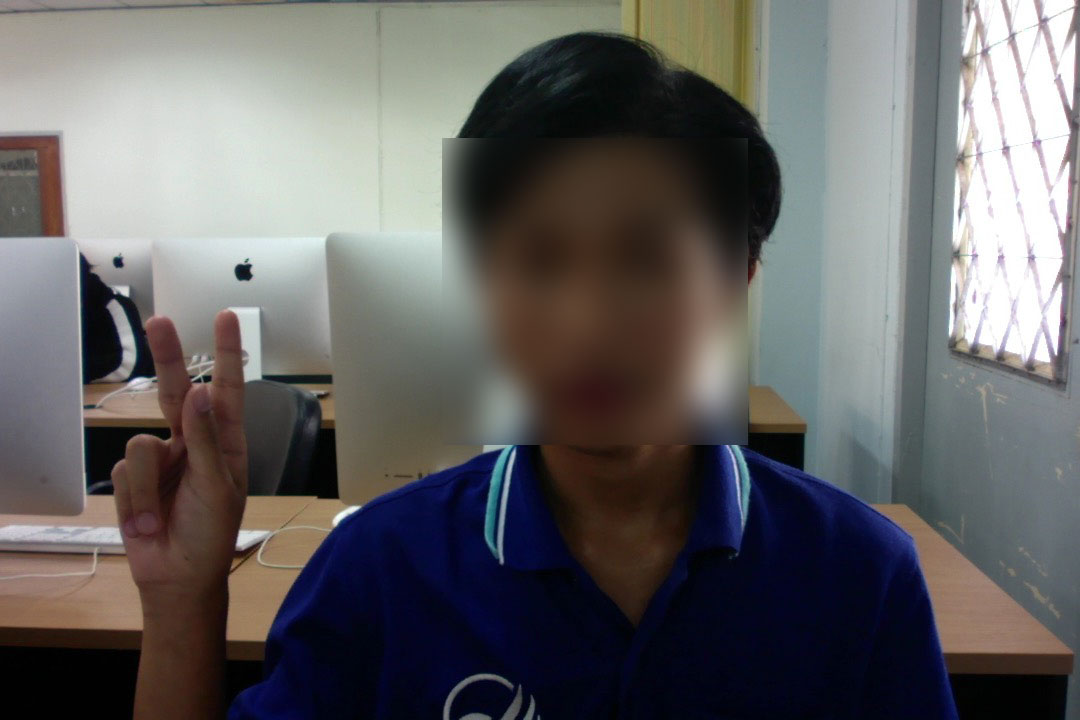ko: (98, 304, 263, 596)
